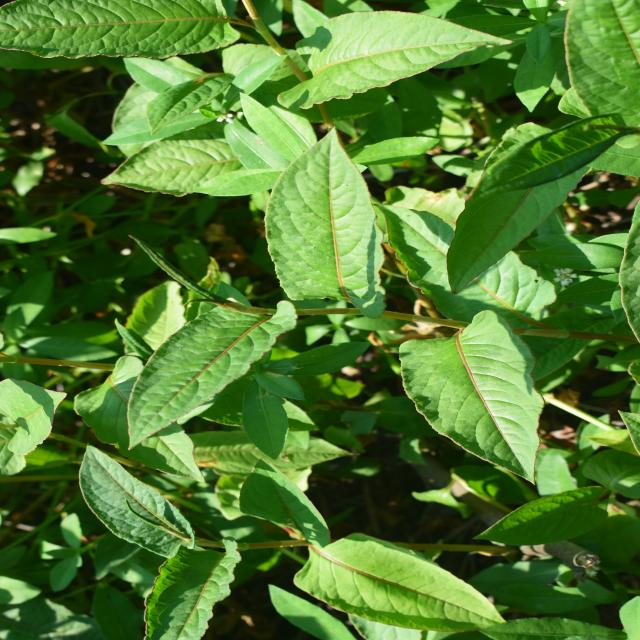Chinese_knotweed: (179, 132, 486, 567), (0, 63, 156, 485)
